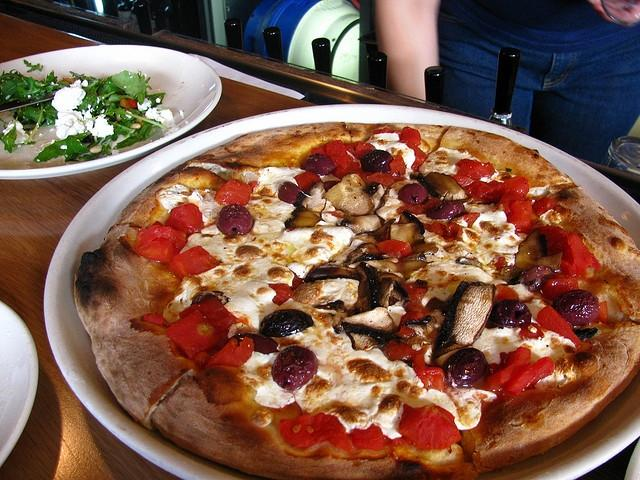mushroom: (434, 284, 496, 358), (322, 172, 375, 216), (342, 307, 396, 344), (260, 309, 314, 338), (424, 172, 468, 202), (335, 210, 383, 235), (294, 181, 326, 213), (305, 265, 360, 283), (378, 278, 408, 309), (389, 223, 425, 247)
tomato: (399, 402, 462, 450), (280, 413, 352, 451), (167, 310, 220, 360), (392, 282, 434, 340), (135, 221, 187, 263), (486, 346, 530, 390), (506, 356, 554, 395), (168, 246, 220, 282), (536, 306, 581, 347), (205, 337, 254, 369), (451, 176, 506, 204), (168, 204, 205, 243), (412, 354, 446, 393), (382, 340, 428, 364), (568, 232, 593, 276), (540, 275, 580, 302), (214, 178, 252, 206), (496, 190, 526, 220), (351, 424, 385, 450), (454, 159, 496, 180), (506, 200, 532, 231), (378, 239, 412, 260), (326, 139, 349, 170), (406, 141, 428, 172), (361, 172, 407, 186), (294, 171, 322, 193), (502, 176, 530, 198), (268, 283, 292, 306), (399, 126, 422, 146), (495, 284, 519, 302), (310, 144, 328, 158), (598, 302, 608, 324)
